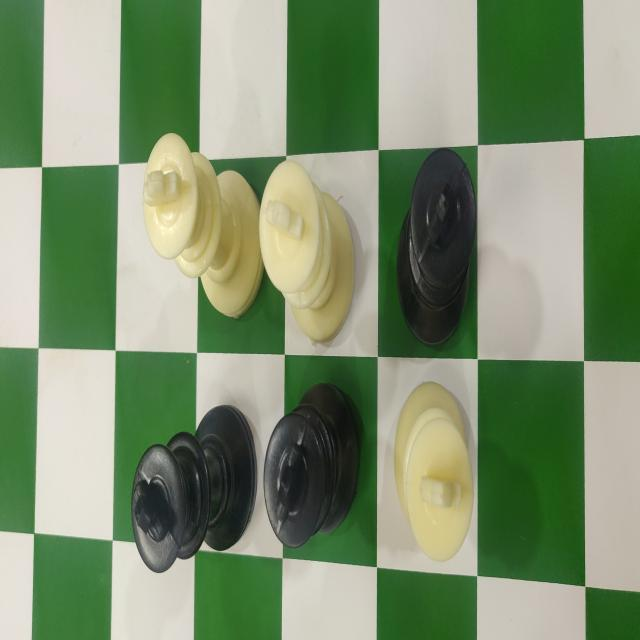black-king: (130, 405, 256, 573), (396, 148, 478, 344), (262, 391, 359, 549)
white-king: (136, 121, 260, 319), (260, 158, 358, 340), (389, 388, 471, 562)
